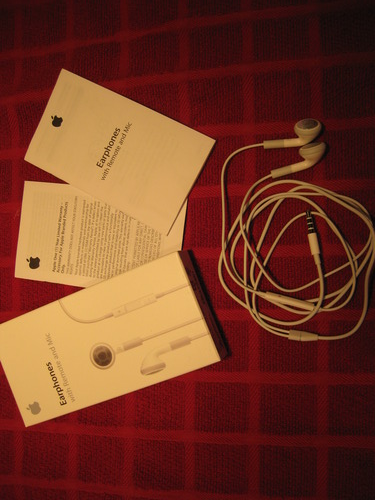Apple: (165, 22, 191, 60), (57, 30, 83, 64), (272, 61, 297, 92)
